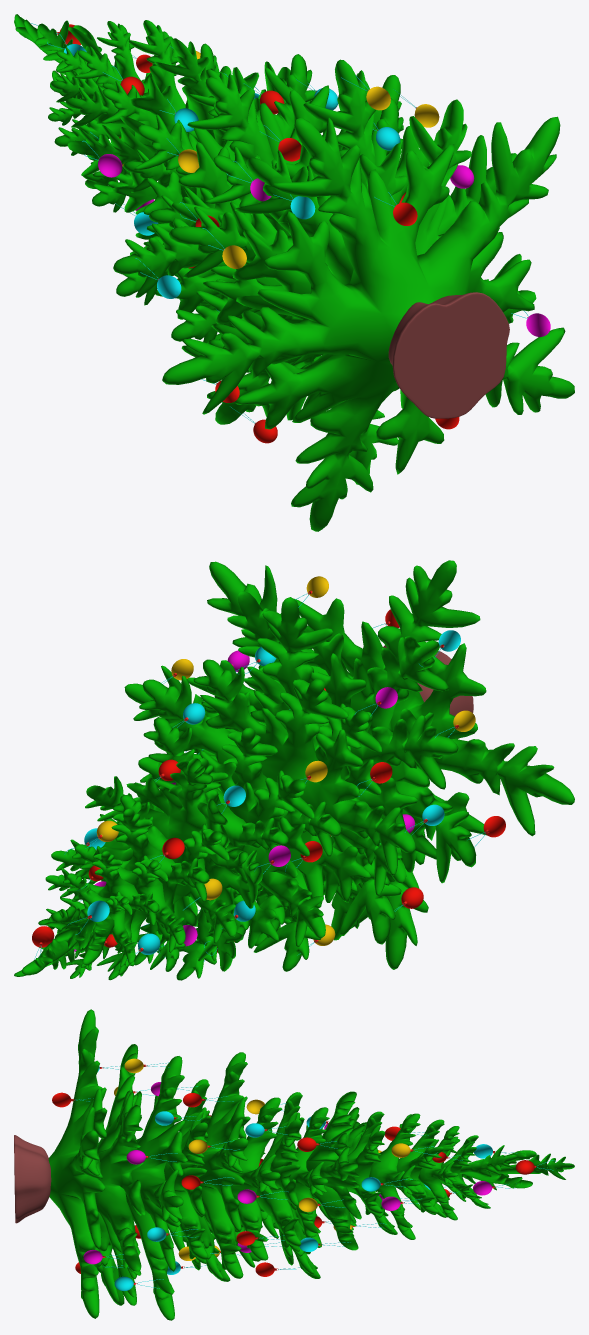
The model's file is christmas_three.fbx.
3 views of the same model, one above another, from view 1: azimuth 30°, elevation 25°; view 2: azimuth 150°, elevation 25°; view 3: azimuth 270°, elevation 25° (orthographic). The views are drawn at different scales.
Visible parts, largest first — view 1: 12150_Christmas_Tree_V2_L2; view 2: 12150_Christmas_Tree_V2_L2; view 3: 12150_Christmas_Tree_V2_L2.
Boxes of the visible parts, <box> form: 12150_Christmas_Tree_V2_L2: <box>14,14,574,531</box>; 12150_Christmas_Tree_V2_L2: <box>14,560,574,980</box>; 12150_Christmas_Tree_V2_L2: <box>14,1009,574,1320</box>.
Bounding box in the file's own units: 513 × 509 × 915.
